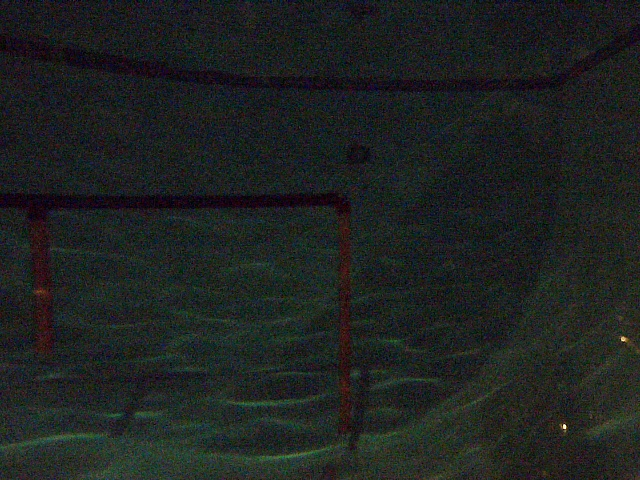Gate: (332, 207, 358, 440), (28, 212, 50, 356)
